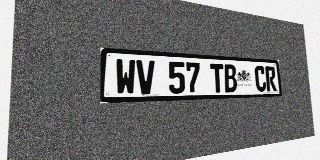5: (168, 61, 186, 94)
7: (185, 62, 201, 93)
B: (223, 64, 237, 92)
C: (254, 66, 267, 92)
R: (265, 66, 277, 91)
T: (210, 63, 225, 93)
V: (136, 60, 155, 95)
W: (115, 59, 136, 95)
